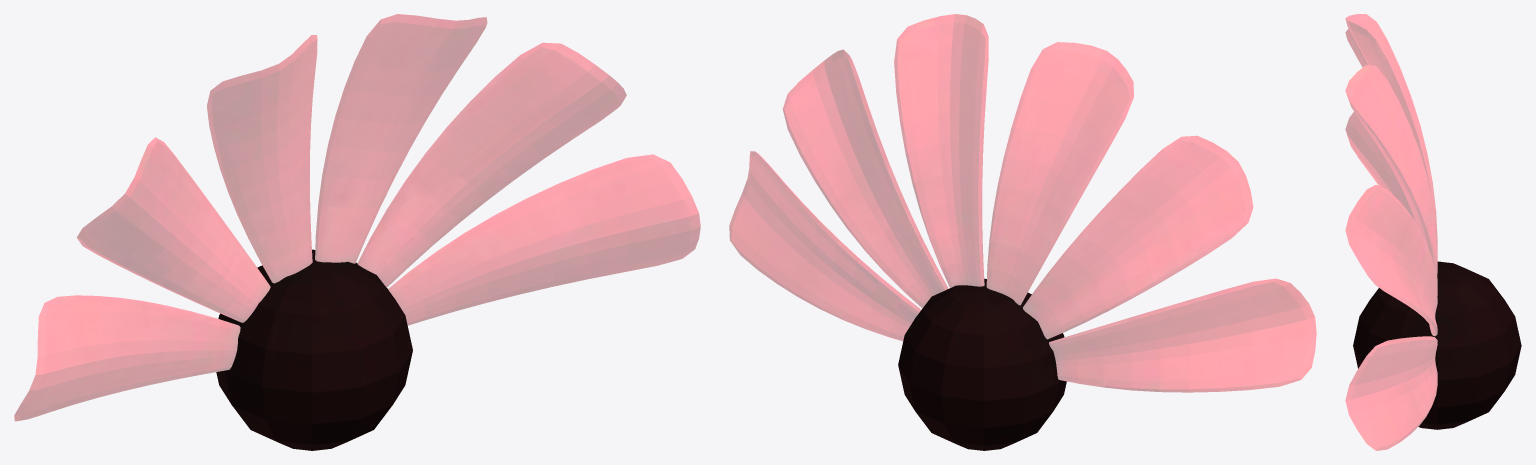
The model's file is yothga_bloom.glb.
3 views of the same model, side by side, from view 1: azimuth 30°, elevation 25°; view 2: azimuth 150°, elevation 25°; view 3: azimuth 270°, elevation 25° (orthographic). The views are drawn at different scales.
Visible parts, largest first — view 1: petals, throat; view 2: petals, throat; view 3: petals, throat.
Boxes of the visible parts, x1,y1,x2,y2 form: petals: (14, 14, 700, 421); throat: (216, 249, 412, 450); petals: (729, 14, 1316, 392); throat: (898, 278, 1066, 450); petals: (1345, 14, 1437, 450); throat: (1353, 261, 1521, 429).
Size of the model in its own units: 0.5461 by 0.3434 by 0.1464.
Materials: 2 (2 with a texture image).
